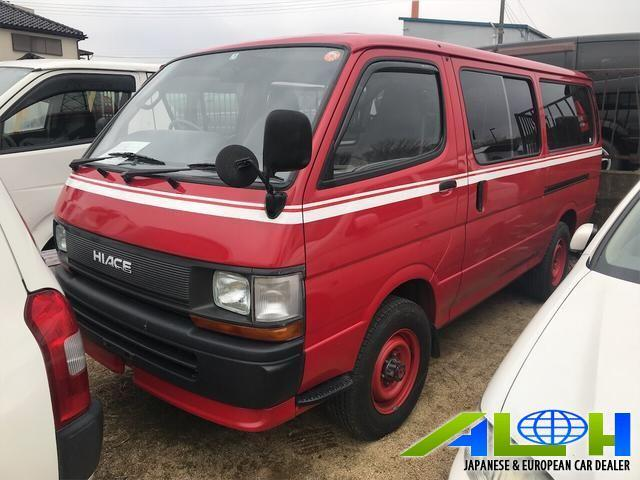Van: (54, 39, 604, 416)
